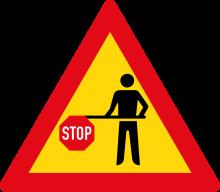Stop: (9, 1, 215, 189)
